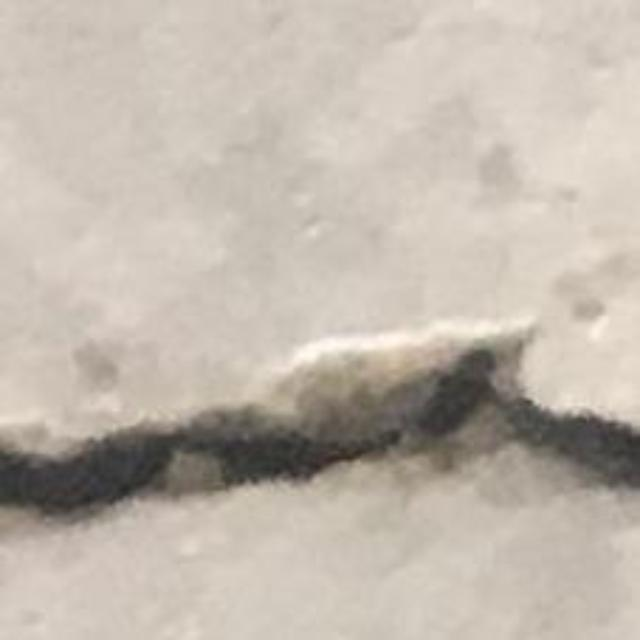crack: (0, 325, 639, 518)
